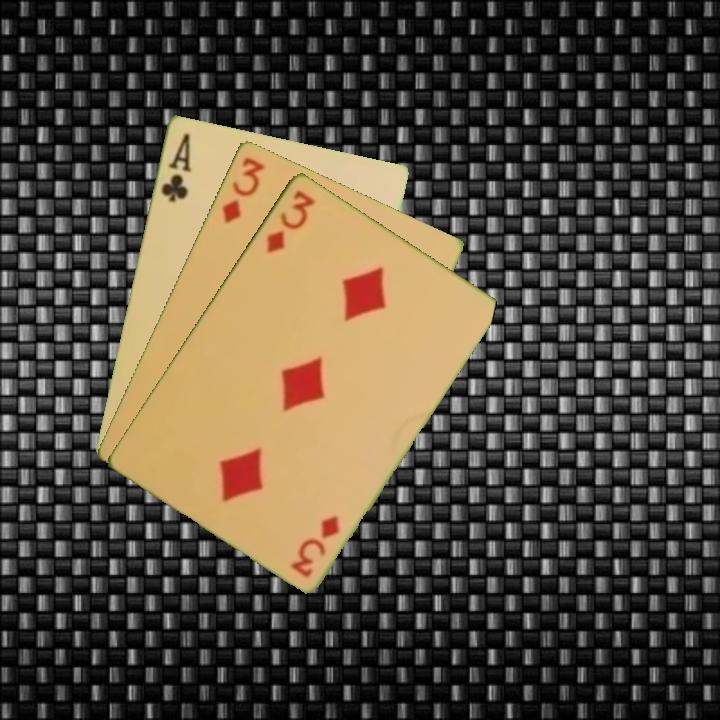3d: (263, 186, 318, 256), (287, 511, 342, 580), (218, 153, 268, 226)
Ac: (157, 129, 194, 205)
